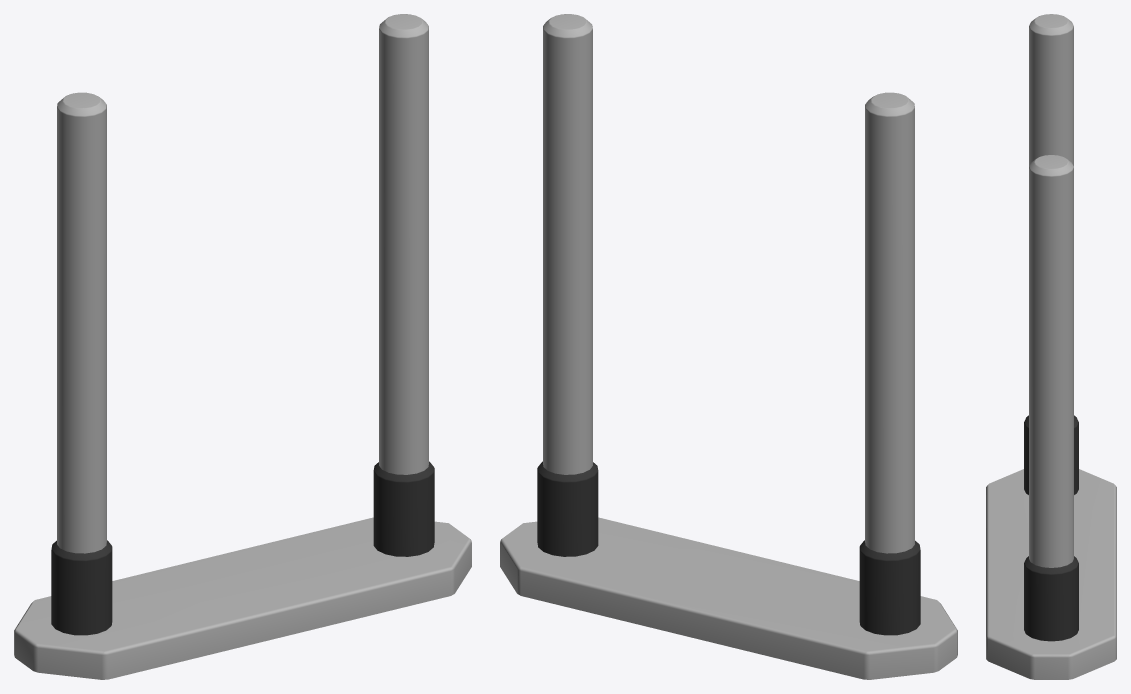
Rendered from obstacle_14_001.fbx.
The picture shows the model from 3 angles, left to right: view 1: azimuth 30°, elevation 25°; view 2: azimuth 150°, elevation 25°; view 3: azimuth 270°, elevation 25°; orthographic projection. The views are drawn at different scales.
Visible parts, largest first — view 1: obstacle_14_001; view 2: obstacle_14_001; view 3: obstacle_14_001.
Boxes of the visible parts, left/top/right/bottom form: obstacle_14_001: left=14, top=14, right=471, bottom=679; obstacle_14_001: left=500, top=14, right=957, bottom=679; obstacle_14_001: left=986, top=14, right=1116, bottom=679.
Size of the model in its own units: 825 by 239 by 990.
